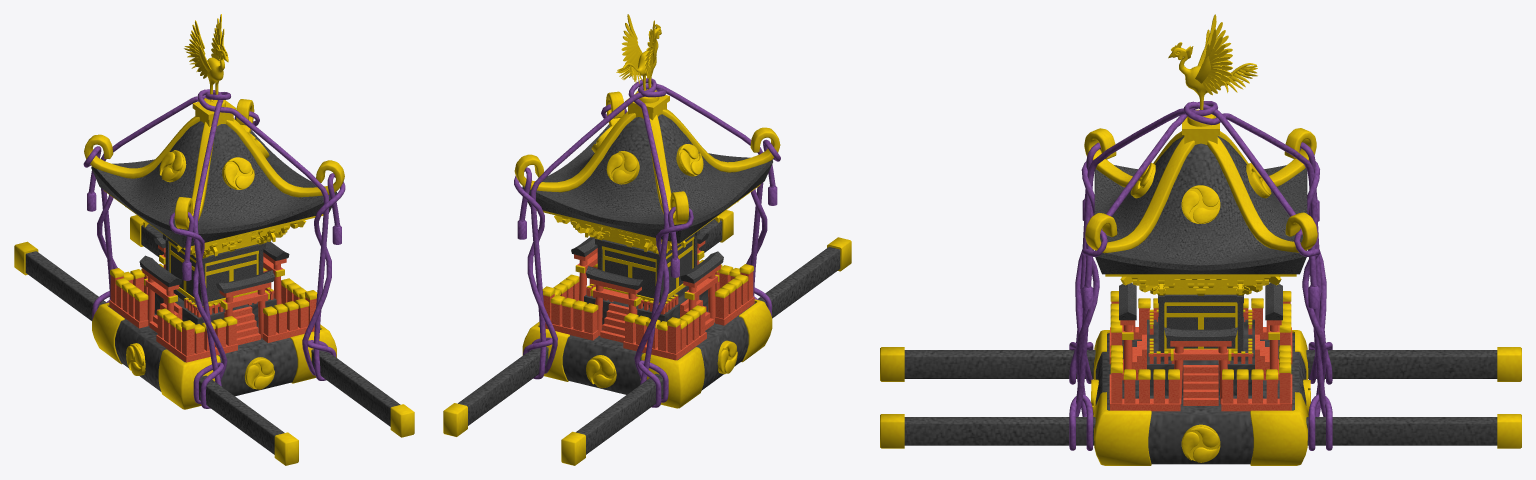
The model's file is fbx_PortableShrine.fbx.
The picture shows the model from 3 angles, left to right: view 1: azimuth 30°, elevation 25°; view 2: azimuth 150°, elevation 25°; view 3: azimuth 270°, elevation 25°; orthographic projection. The views are drawn at different scales.
Parts seen in each view (by area): view 1: PortableShrine; view 2: PortableShrine; view 3: PortableShrine.
Part boxes in pixels (left/top/right/bottom): PortableShrine: left=14, top=14, right=414, bottom=465; PortableShrine: left=443, top=14, right=851, bottom=465; PortableShrine: left=880, top=14, right=1521, bottom=465.
Size of the model in its own units: 1.2 by 2.25 by 3.25.
